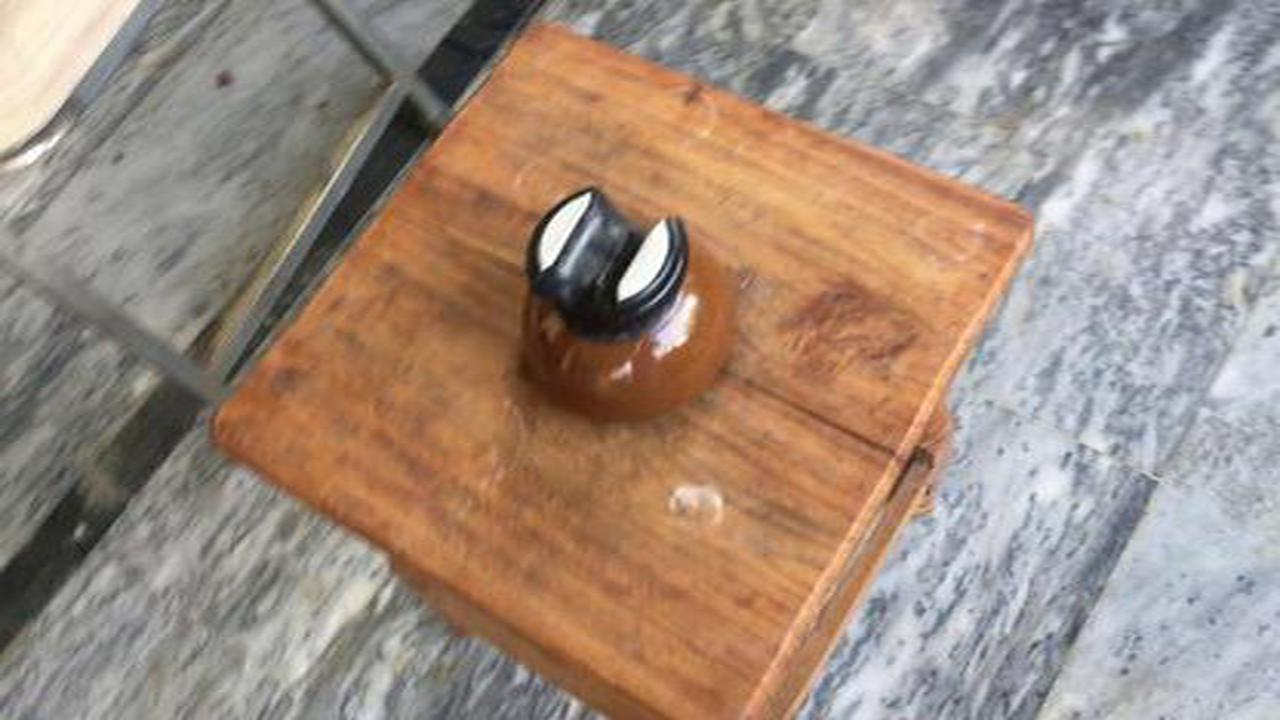insulator_pin: (490, 179, 754, 435)
